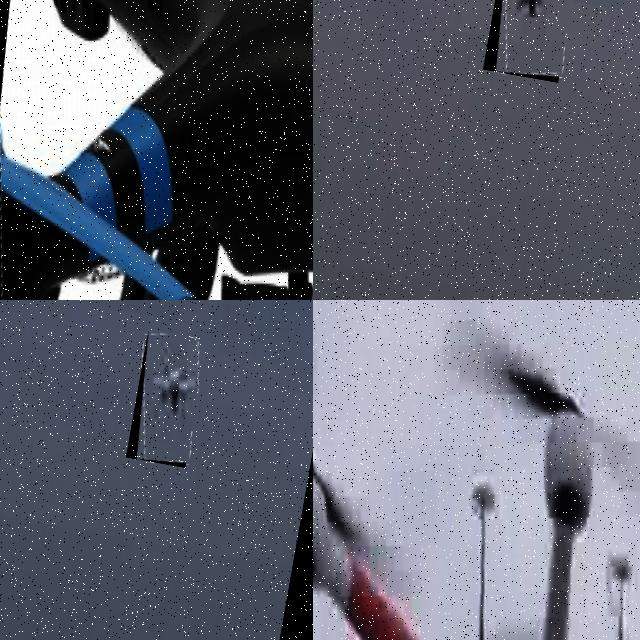drone: (313, 300, 640, 640), (0, 0, 313, 300), (125, 330, 208, 468), (483, 0, 584, 82)
